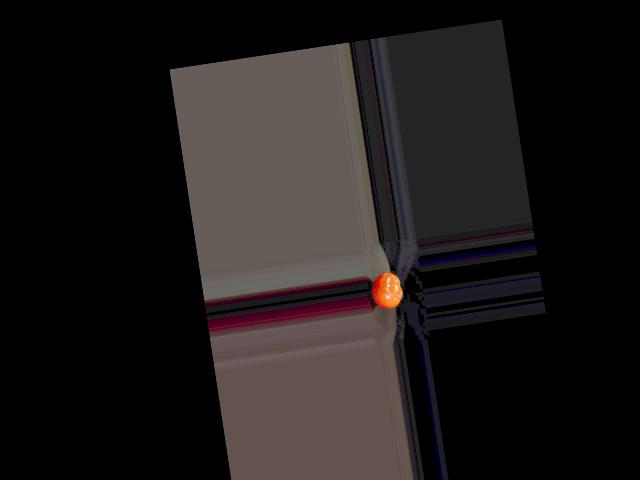tomato: (368, 270, 404, 311)
